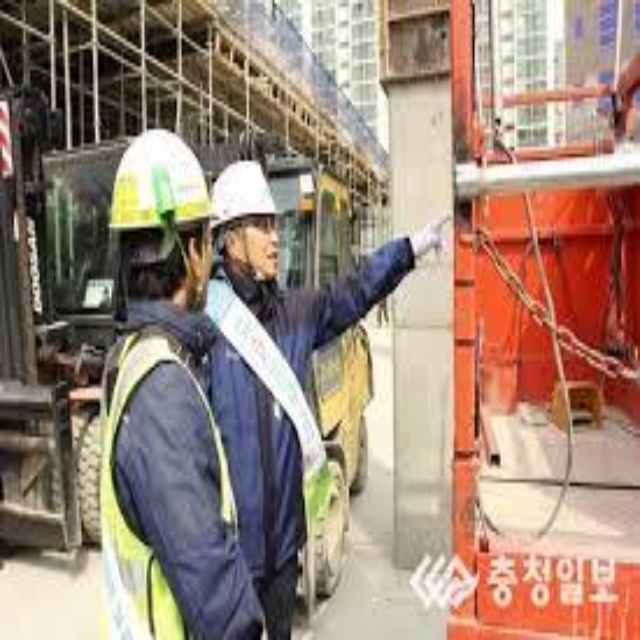Arnes_seguridad: (88, 334, 231, 640)
